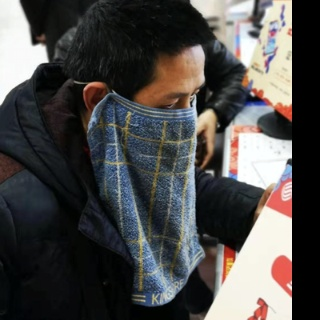with_mask: (108, 80, 206, 180)
